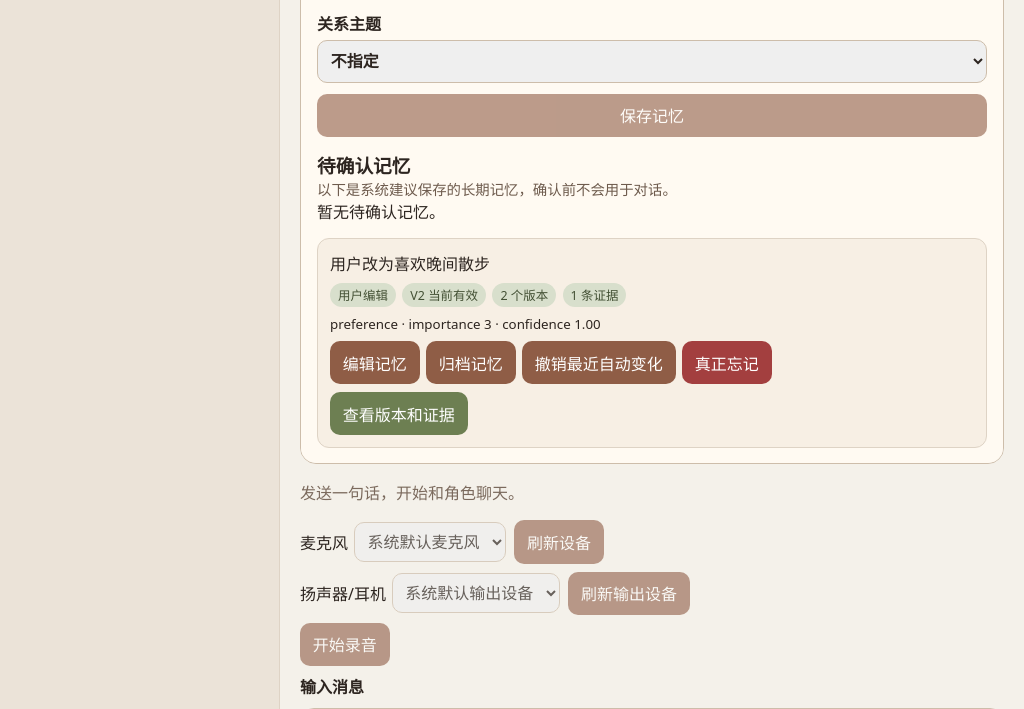
Test: App › refreshes stale automatic undo availability after a rejected request
(page scrolled)
Click the button "撤销最近自动变化" at (599, 363), box [522,341,676,384]
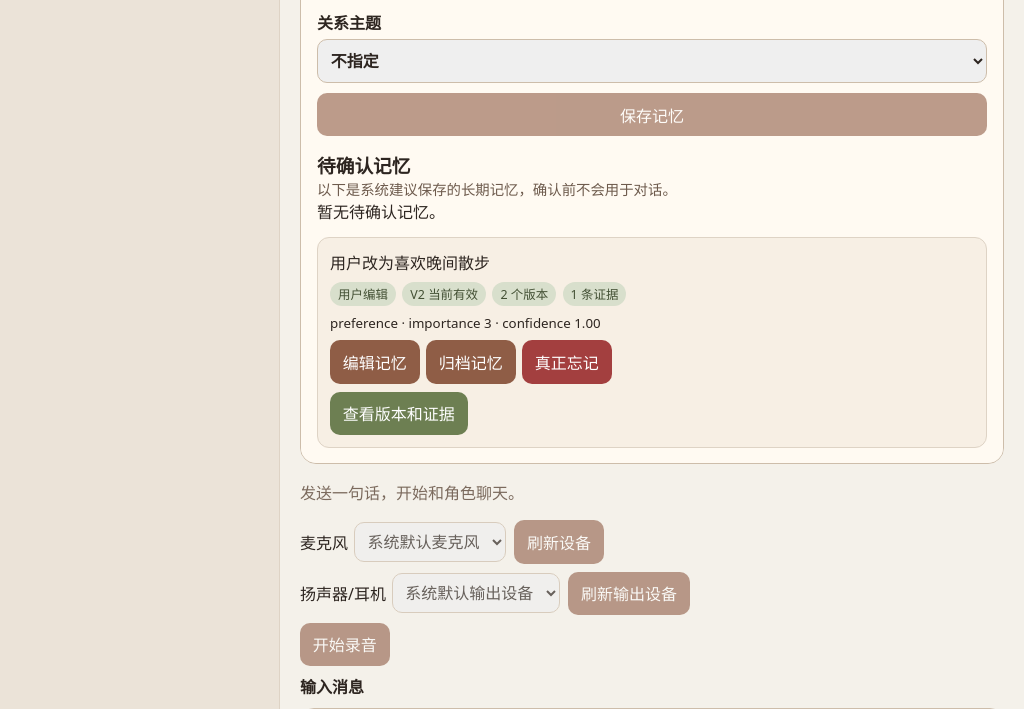
Expected: the text "用户改为喜欢晚间散步" is shown, [330,252,490,274]
Expected: the button "撤销最近自动变化" is gone
